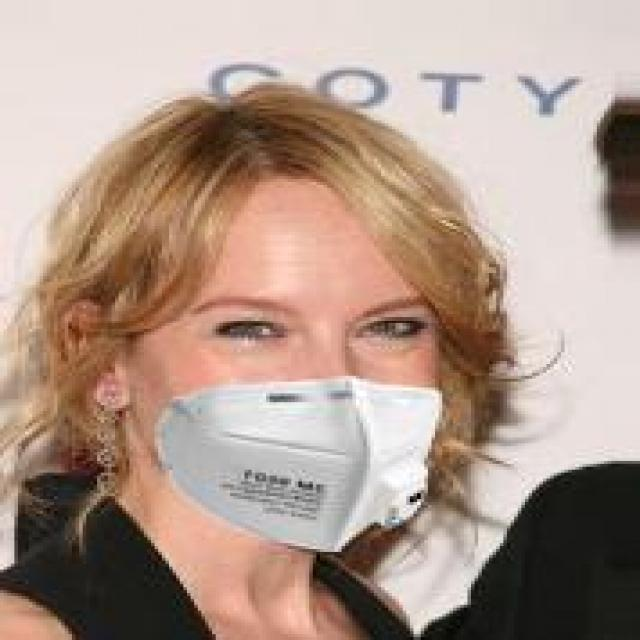mask: (93, 115, 518, 570)
